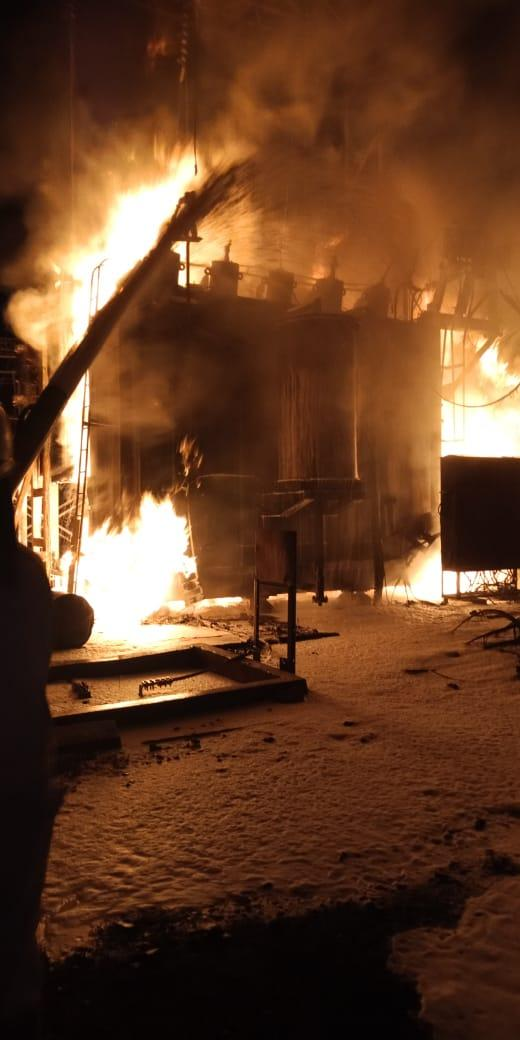fire: (77, 492, 199, 628), (104, 169, 191, 283), (443, 347, 518, 454), (49, 390, 81, 589), (387, 538, 439, 600), (18, 459, 45, 551)
